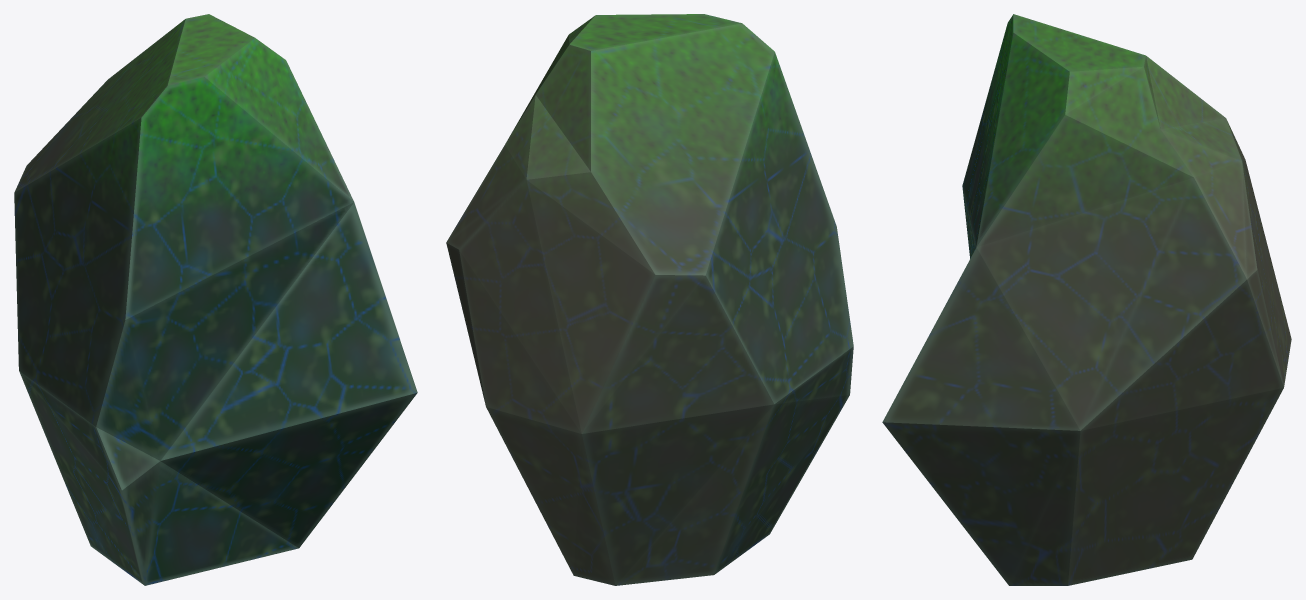
File: rock1.glb
3 renders of one model, left to right at view 1: azimuth 30°, elevation 25°; view 2: azimuth 150°, elevation 25°; view 3: azimuth 270°, elevation 25°, orthographic. The views are drawn at different scales.
Parts seen in each view (by area): view 1: Cube; view 2: Cube; view 3: Cube.
Boxes of the visible parts, x1,y1,x2,y2 form: Cube: (14,14,417,585); Cube: (446,14,853,585); Cube: (882,14,1291,585).
Size of the model in its own units: 2.37 by 3.8 by 2.78.
1 material, 1 textured.
